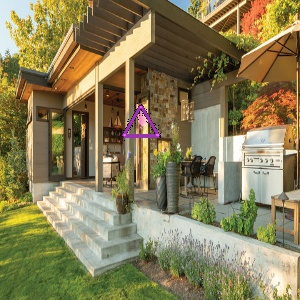triangle: (115, 102, 163, 139)
